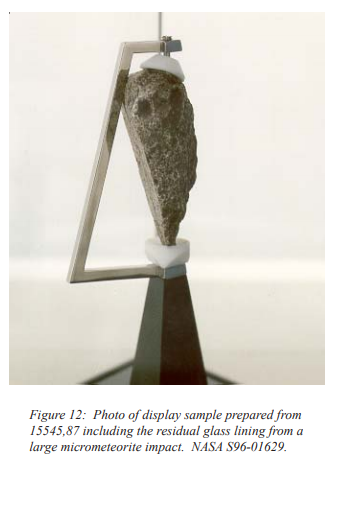Basalt: (104, 55, 210, 246), (115, 70, 212, 232)
